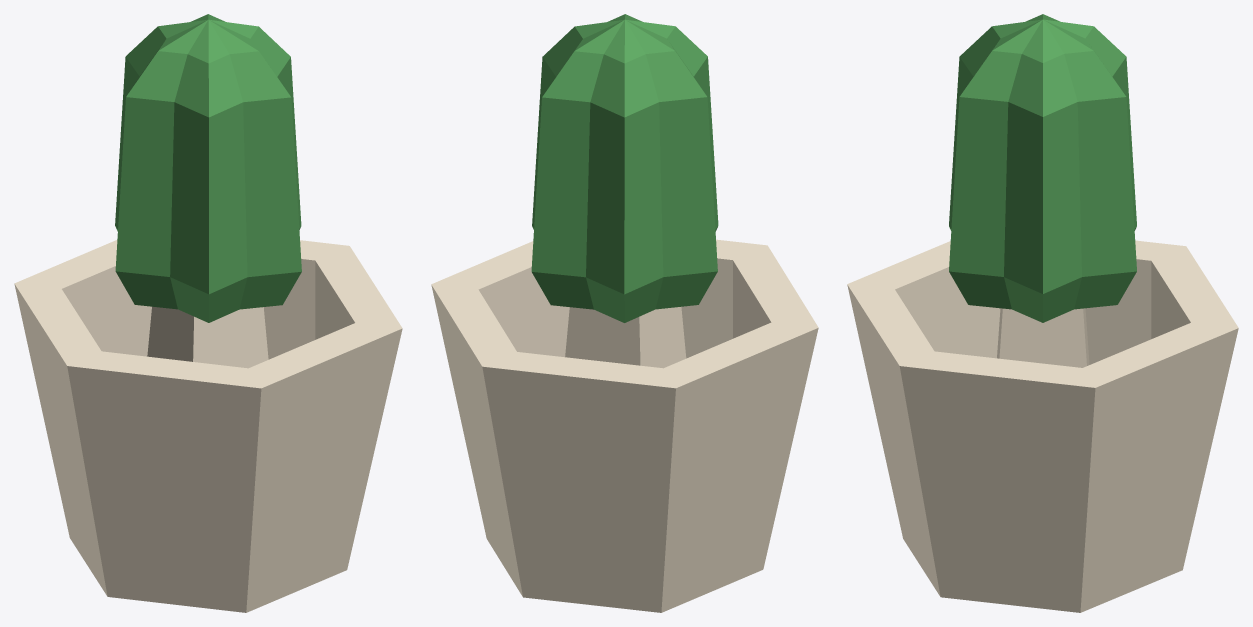
Rendered from plant-small.glb.
The picture shows the model from 3 angles, left to right: view 1: azimuth 30°, elevation 25°; view 2: azimuth 150°, elevation 25°; view 3: azimuth 270°, elevation 25°; orthographic projection.
Parts seen in each view (by area): view 1: vendor-cream, vendor-leaf; view 2: vendor-cream, vendor-leaf; view 3: vendor-cream, vendor-leaf.
Boxes of the visible parts, box(x1,y1,x2,y2) form: vendor-cream: box(14, 240, 402, 612); vendor-leaf: box(115, 14, 301, 322); vendor-cream: box(431, 239, 818, 612); vendor-leaf: box(531, 14, 718, 322); vendor-cream: box(847, 240, 1238, 612); vendor-leaf: box(949, 14, 1136, 322).
Bounding box in the file's own units: 1.14 × 1.74 × 1.15.
1 material, 1 textured.
